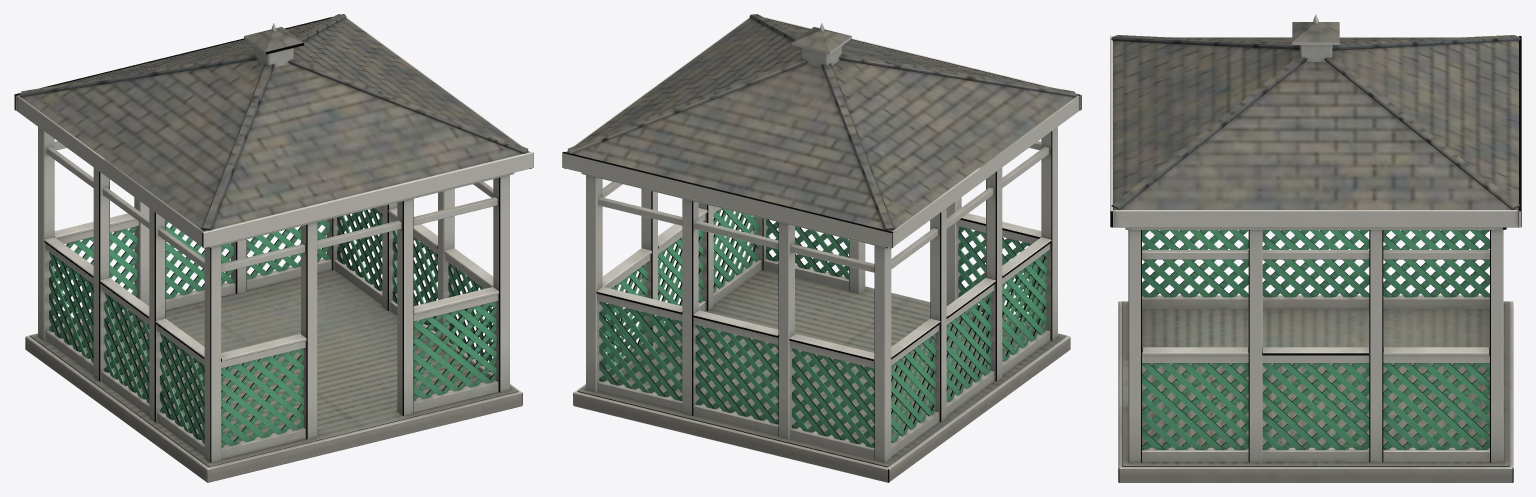
File: gazebo.glb
The picture shows the model from 3 angles, left to right: view 1: azimuth 30°, elevation 25°; view 2: azimuth 150°, elevation 25°; view 3: azimuth 270°, elevation 25°; orthographic projection. The views are drawn at different scales.
Parts seen in each view (by area): view 1: gazebo; view 2: gazebo; view 3: gazebo.
Part boxes in pixels (x1,y1,x2,y2): gazebo: (14,14,533,482); gazebo: (562,14,1081,482); gazebo: (1110,14,1521,482).
Size of the model in its own units: 3.31 by 3.4 by 3.29.
4 materials, 4 textured.
